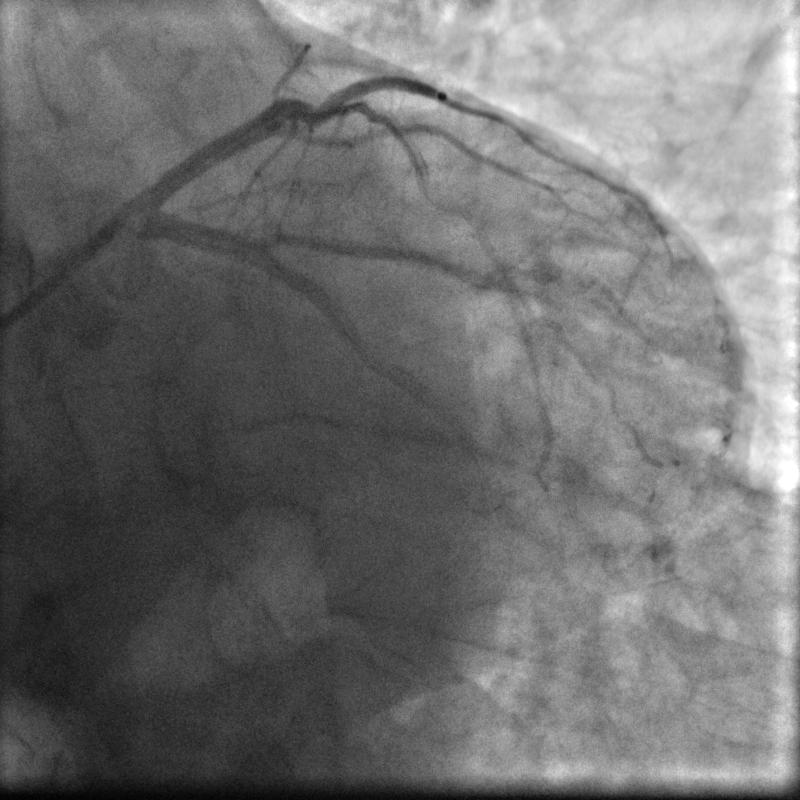Stenosis: (357, 324, 392, 379)
